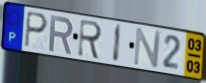2: (161, 34, 183, 72)
I: (112, 22, 123, 65)
N: (132, 27, 164, 69)
P: (23, 10, 49, 49)
R: (47, 14, 75, 57), (77, 18, 104, 62)
